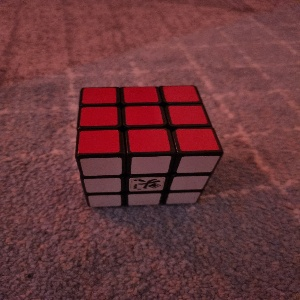cube: (75, 86, 225, 209)
